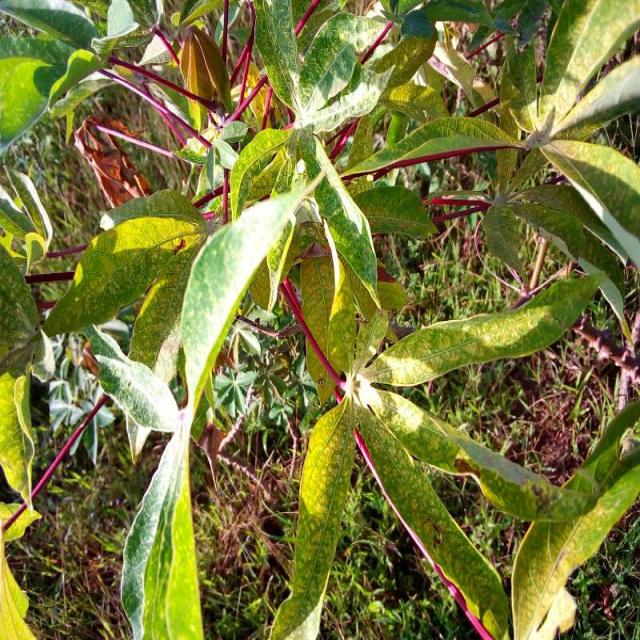cassava leaf: (2, 0, 638, 638), (42, 187, 210, 338)
